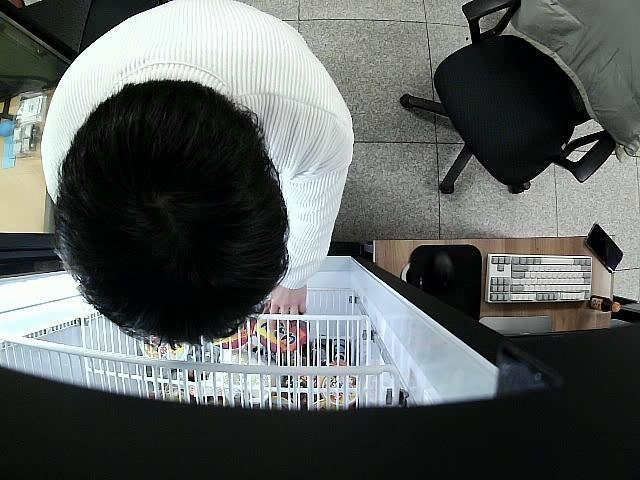05_nuguri_L: (255, 312, 311, 354)
